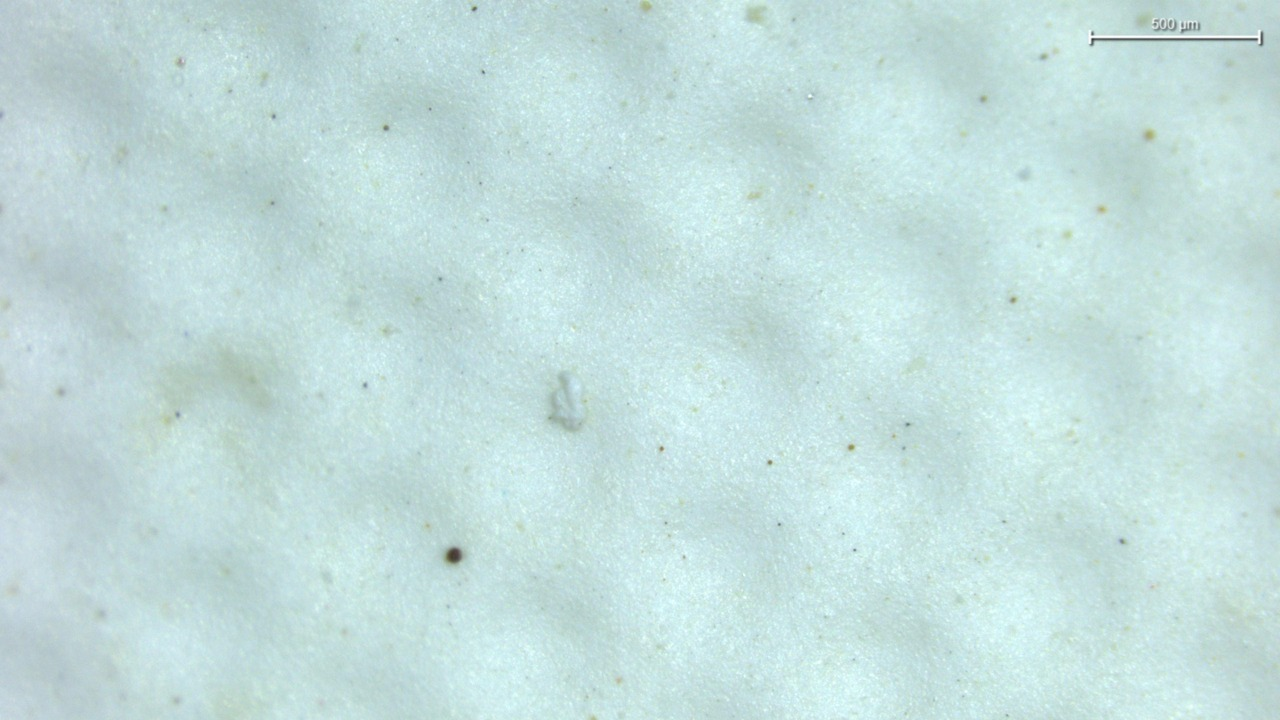microplastic_fragment: (549, 371, 585, 430)
